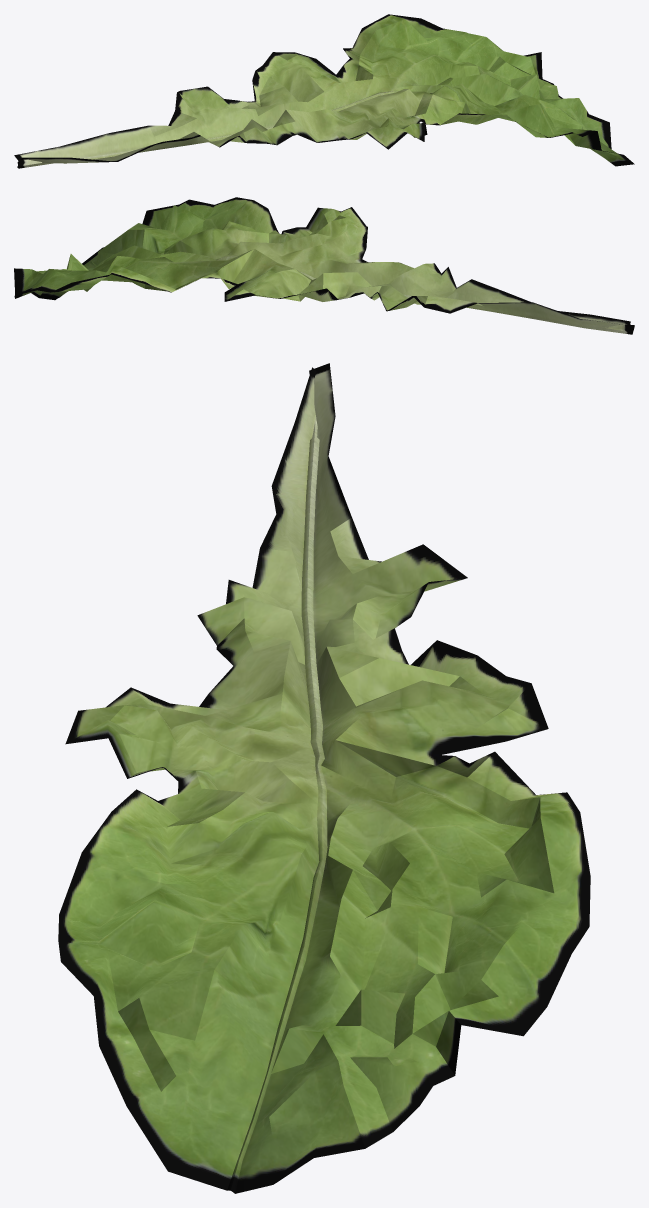
Rendered from Lettuce3.fbx.
3 renders of one model, top to bottom at view 1: azimuth 30°, elevation 25°; view 2: azimuth 150°, elevation 25°; view 3: azimuth 270°, elevation 25°, orthographic. The views are drawn at different scales.
Parts seen in each view (by area): view 1: lettuce2_1_4.002; view 2: lettuce2_1_4.002; view 3: lettuce2_1_4.002.
Part boxes in pixels (x1,y1,x2,y2): lettuce2_1_4.002: (14,14,634,168); lettuce2_1_4.002: (14,197,634,334); lettuce2_1_4.002: (58,363,590,1193).
Bounding box in the file's own units: 12.44 × 2.69 × 4.85.
